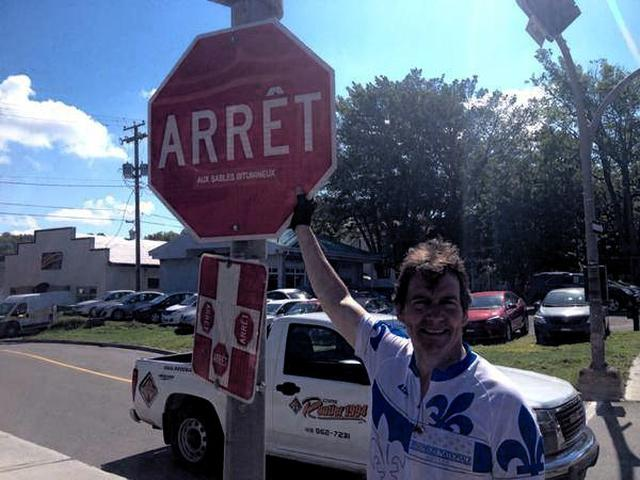stop: (145, 15, 345, 244)
